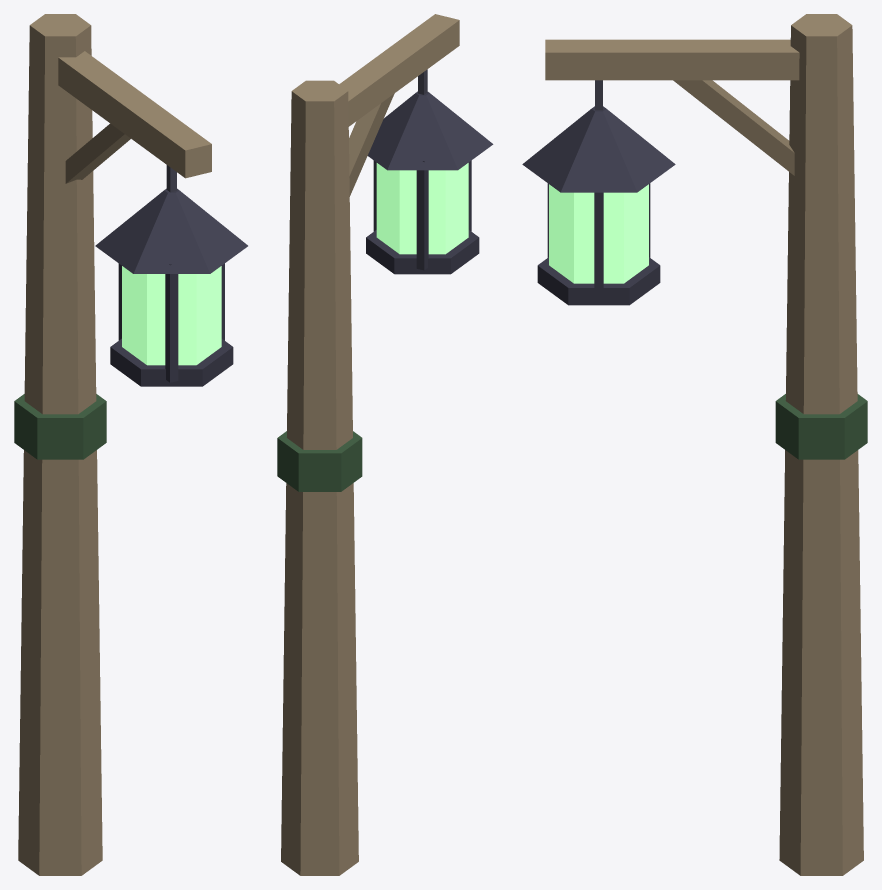
The model's file is signal_lantern.glb.
The picture shows the model from 3 angles, left to right: view 1: azimuth 30°, elevation 25°; view 2: azimuth 150°, elevation 25°; view 3: azimuth 270°, elevation 25°; orthographic projection. The views are drawn at different scales.
Parts seen in each view (by area): view 1: driftwood_d20, ink_l15, moss_glow, moss_d30, driftwood_d30; view 2: driftwood_d20, ink_l15, moss_glow, moss_d30, driftwood_d30; view 3: driftwood_d20, ink_l15, moss_glow, moss_d30, driftwood_d30.
Part boxes in pixels (<box>): driftwood_d20: <box>18,14,211,875</box>; ink_l15: <box>95,188,247,386</box>; moss_glow: <box>122,266,221,365</box>; moss_d30: <box>14,394,106,459</box>; driftwood_d30: <box>65,123,130,183</box>; driftwood_d20: <box>281,14,459,875</box>; ink_l15: <box>366,91,493,274</box>; moss_glow: <box>376,163,468,254</box>; moss_d30: <box>277,431,362,491</box>; driftwood_d30: <box>349,93,394,196</box>; driftwood_d20: <box>545,14,863,875</box>; ink_l15: <box>522,106,675,305</box>; moss_glow: <box>549,184,648,283</box>; moss_d30: <box>775,394,867,459</box>; driftwood_d30: <box>673,80,794,175</box>.
Size of the model in its own units: 0.3464 by 2.4 by 0.9.
